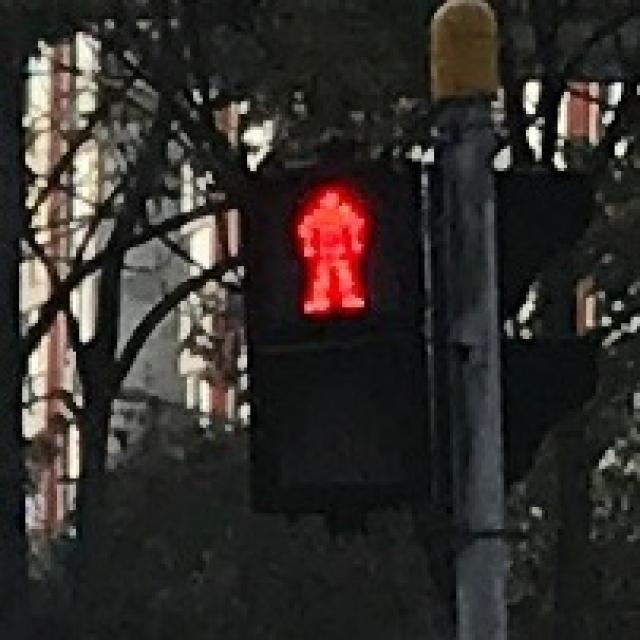red-crossing: (263, 168, 390, 320)
